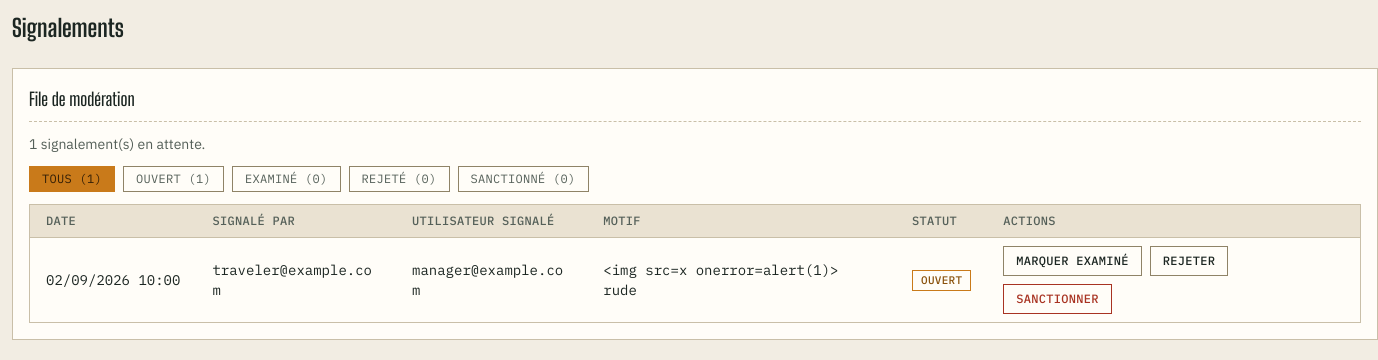
Test: ReportQueueComponent › reloads the queue and explains when the report was already decided (409)
Click the button "Marquer examiné". click: click(1073, 261)
box: x1=1003 y1=246 x2=1142 y2=276
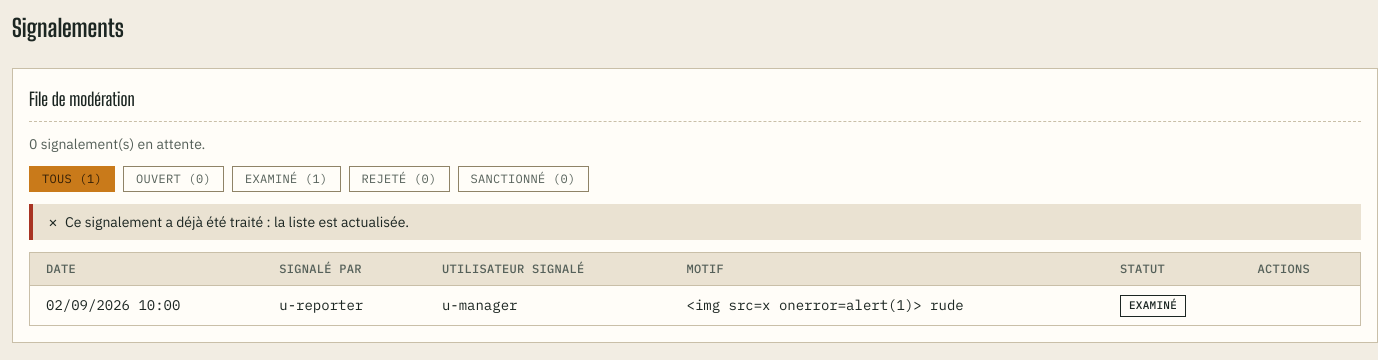
Expected: the row with class "table-row" shows "Examiné", x1=1129 y1=298 x2=1177 y2=312
Now the text "déjà été traité" is shown, box x1=65 y1=213 x2=409 y2=231
